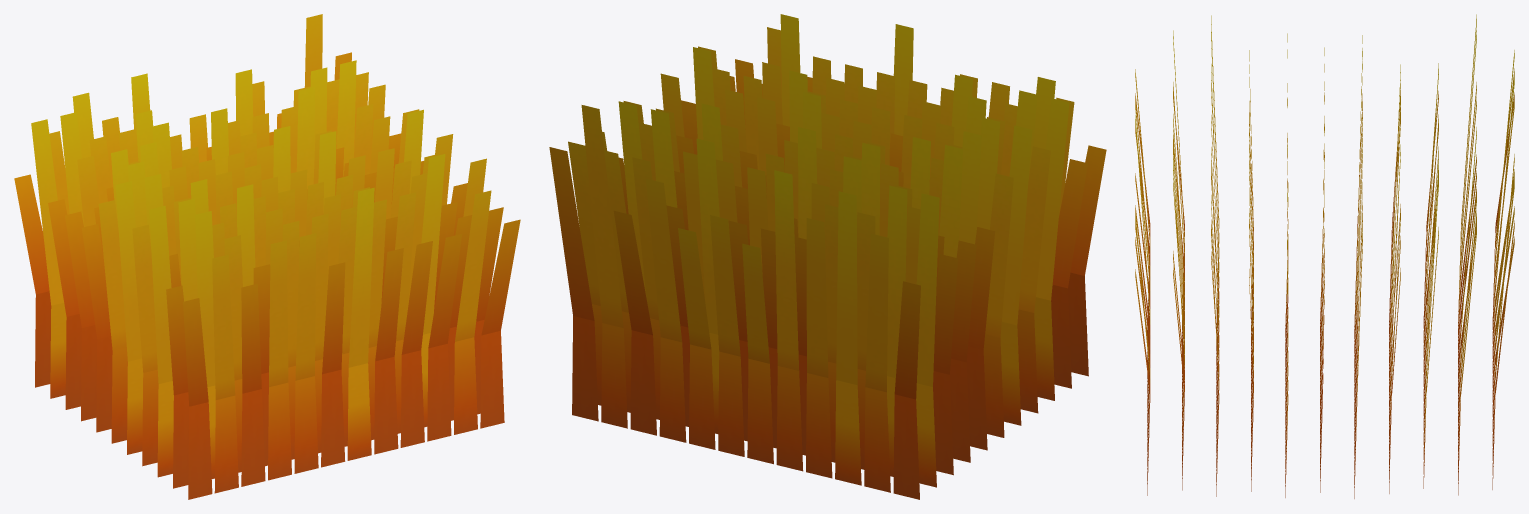
File: block_fields_1_1.fbx
3 views of the same model, side by side, from view 1: azimuth 30°, elevation 25°; view 2: azimuth 150°, elevation 25°; view 3: azimuth 270°, elevation 25° (orthographic). The views are drawn at different scales.
Parts seen in each view (by area): view 1: block_fields_1_1; view 2: block_fields_1_1; view 3: block_fields_1_1.
Boxes of the visible parts, <box> form: block_fields_1_1: <box>14,14,520,499</box>; block_fields_1_1: <box>549,14,1106,499</box>; block_fields_1_1: <box>1135,14,1514,498</box>.
Bounding box in the file's own units: 182 × 151 × 157.
